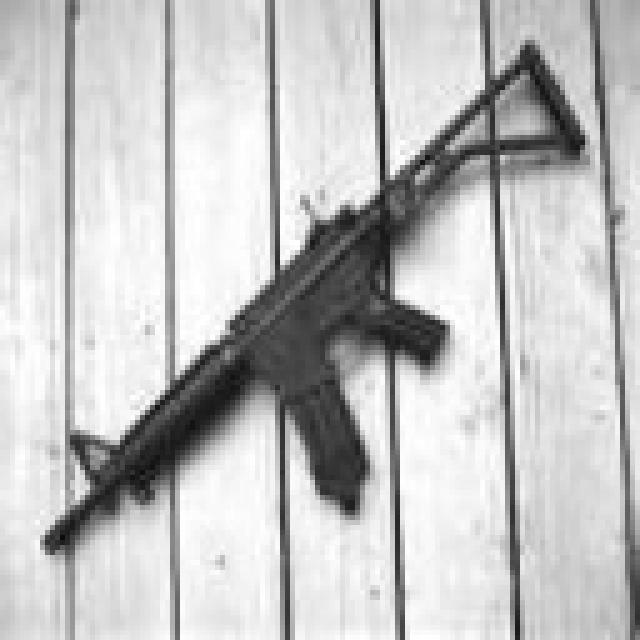Rifle: (7, 51, 544, 624)
